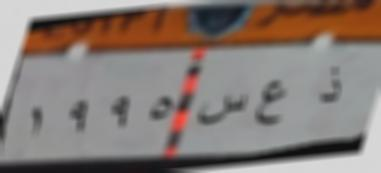1: (18, 98, 52, 148)
5: (144, 85, 176, 128)
9: (62, 94, 101, 138), (106, 92, 134, 134)
ain: (253, 78, 294, 135)
seen: (199, 87, 250, 130)
zaal: (312, 63, 348, 107)
